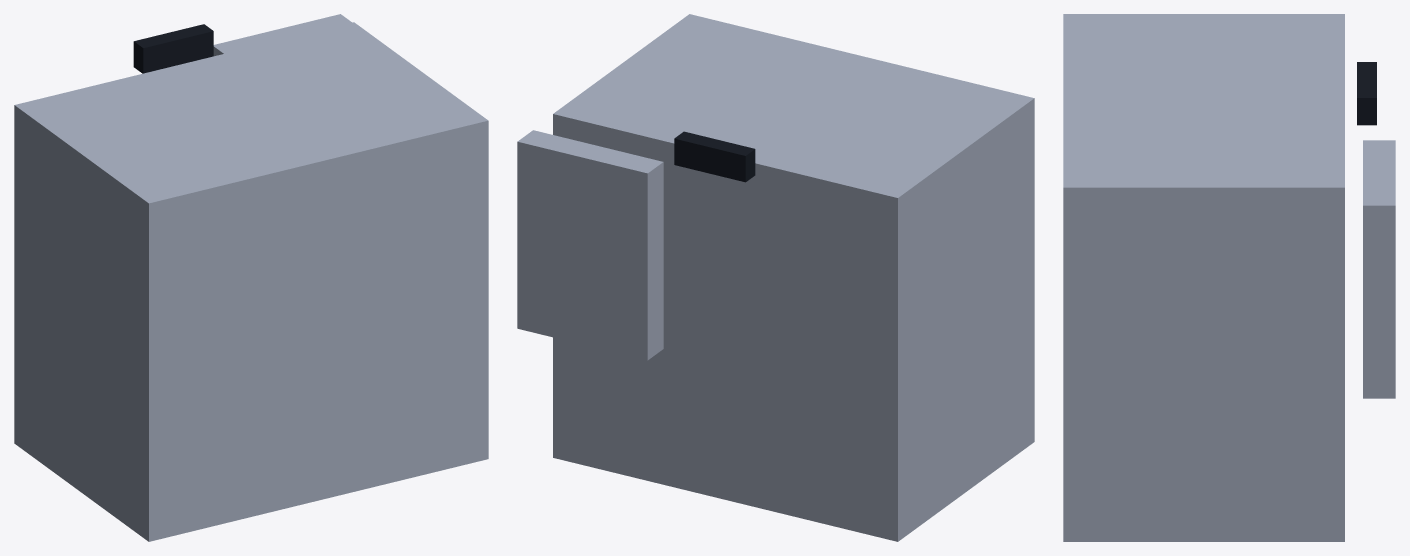
File: enemy-playground-shield-cart-v1.glb
3 views of the same model, side by side, from view 1: azimuth 30°, elevation 25°; view 2: azimuth 150°, elevation 25°; view 3: azimuth 270°, elevation 25° (orthographic). The views are drawn at different scales.
Parts seen in each view (by area): view 1: Shield Cart; view 2: Shield Cart; view 3: Shield Cart.
Part boxes in pixels (left/top/right/bottom): Shield Cart: left=14, top=14, right=488, bottom=541; Shield Cart: left=517, top=14, right=1034, bottom=541; Shield Cart: left=1063, top=14, right=1395, bottom=541.
Bounding box in the file's own units: 1.69 × 1.65 × 1.33.
